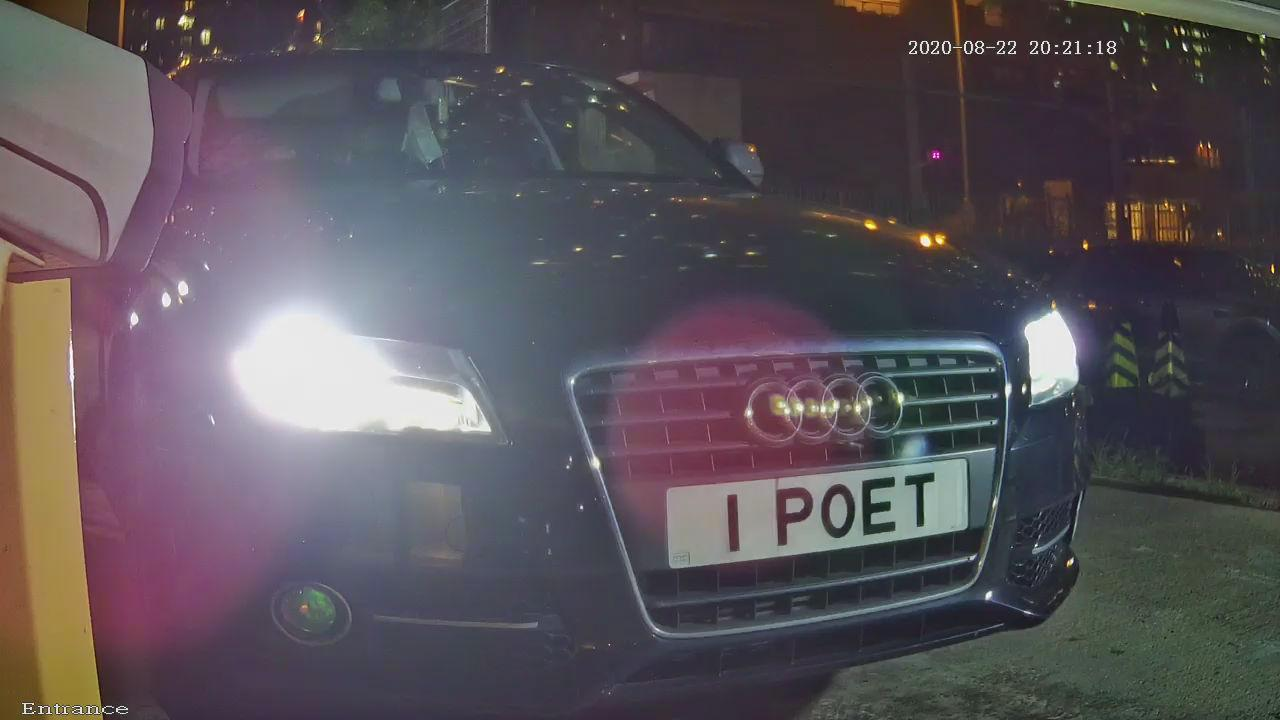License Plate: (605, 427, 1002, 604)
